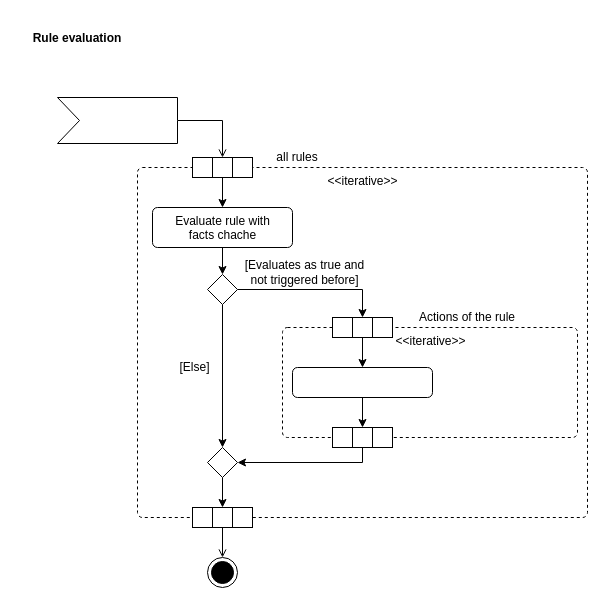
This 605x605 diagram has some shape labels left out. Each missing label, with the box of its shape:
Execute action: (292, 366, 432, 398)
trigger: (56, 96, 178, 144)
